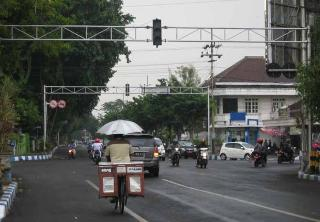mobil: (128, 130, 162, 178), (220, 131, 258, 169), (177, 136, 199, 160)
motor: (199, 136, 217, 174), (255, 136, 269, 172), (280, 132, 294, 168), (170, 137, 182, 169), (65, 132, 77, 160), (92, 137, 104, 161)
